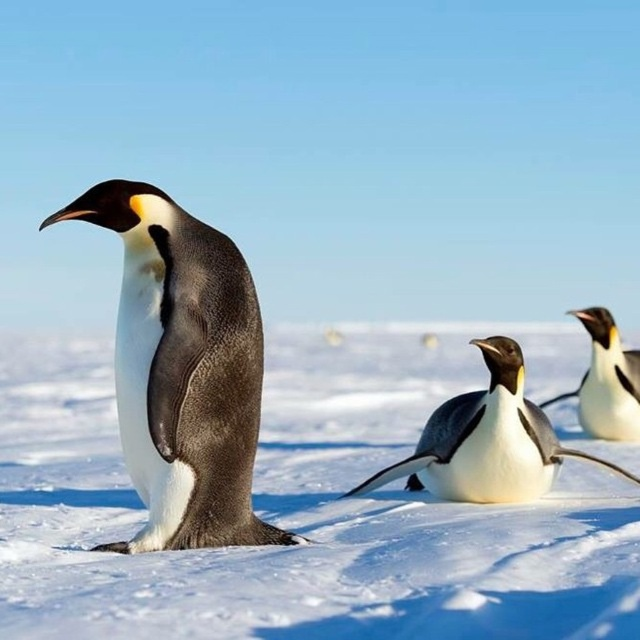Penguin: (38, 180, 318, 550), (336, 332, 639, 507), (534, 308, 639, 444)
